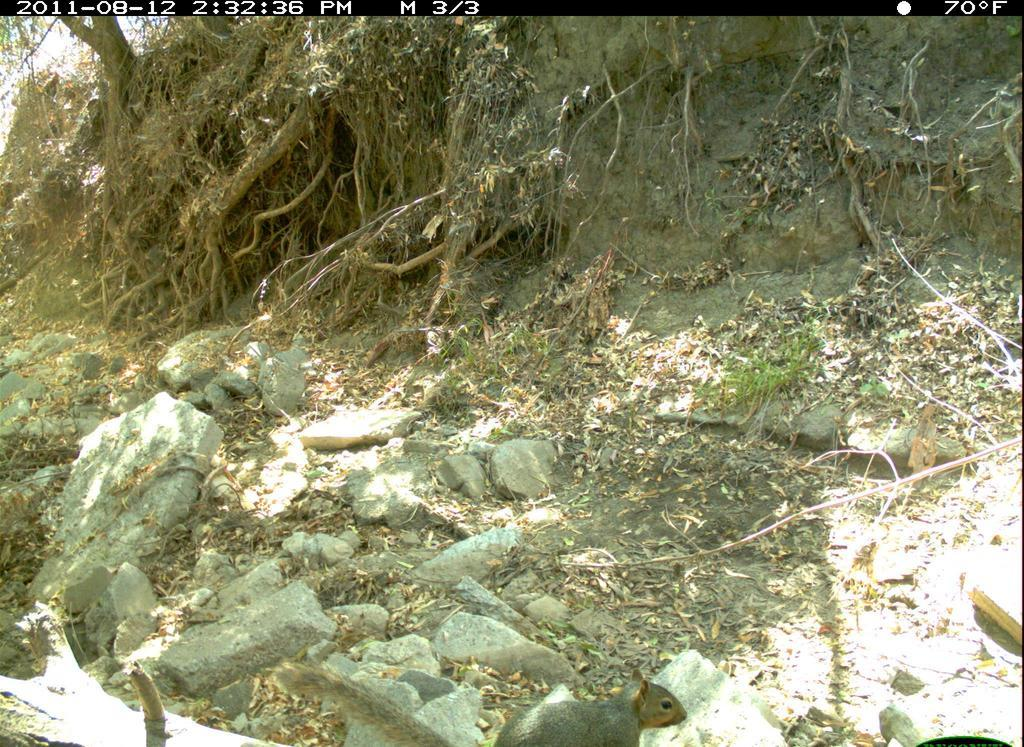squirrel: (243, 655, 707, 747)
